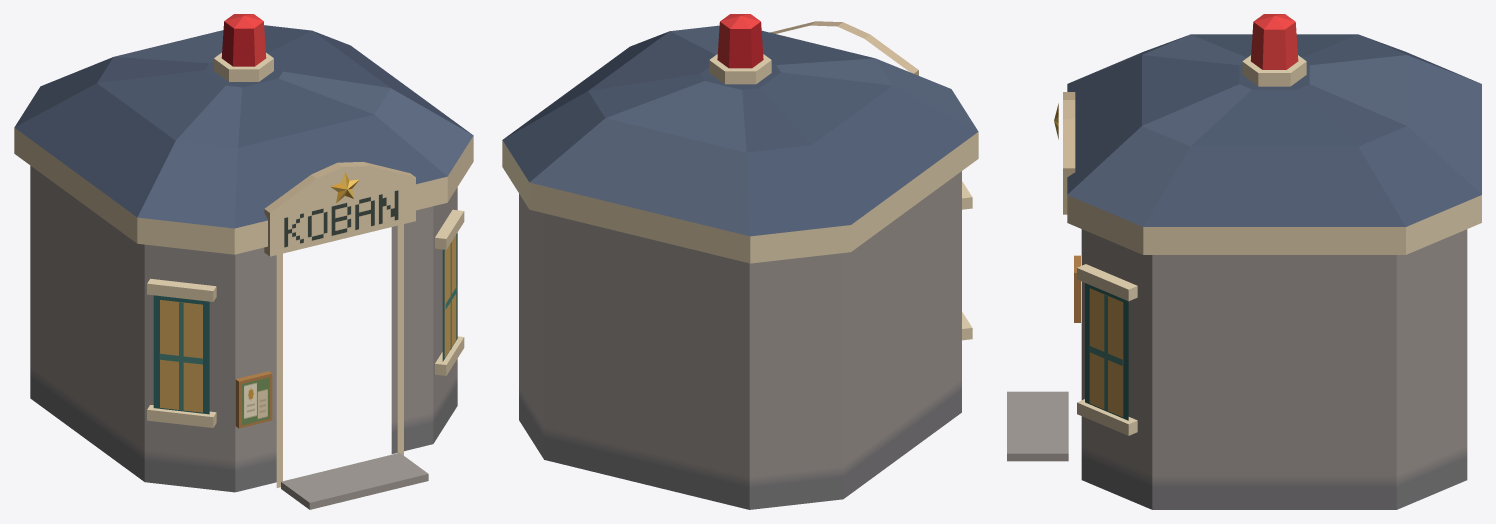
The model's file is exterior.glb.
3 renders of one model, left to right at view 1: azimuth 30°, elevation 25°; view 2: azimuth 150°, elevation 25°; view 3: azimuth 270°, elevation 25°, orthographic. The views are drawn at different scales.
Visible parts, largest first — view 1: exterior; view 2: exterior; view 3: exterior.
Boxes of the visible parts, bbox=[...] form: exterior: bbox=[14, 14, 473, 509]; exterior: bbox=[502, 14, 978, 509]; exterior: bbox=[1007, 14, 1481, 509].
Bounding box in the file's own units: 3.22 × 3.55 × 3.69.
Materials: 1 (1 with a texture image).
